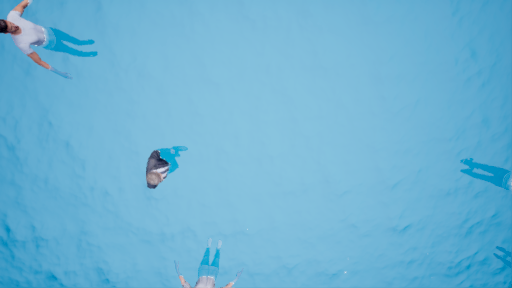person: (1, 1, 117, 81), (161, 238, 250, 288), (142, 127, 191, 192)
